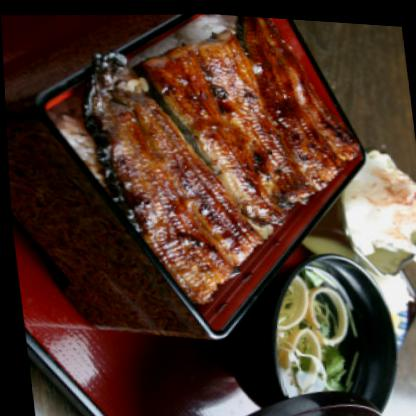eel: (94, 5, 364, 284)
